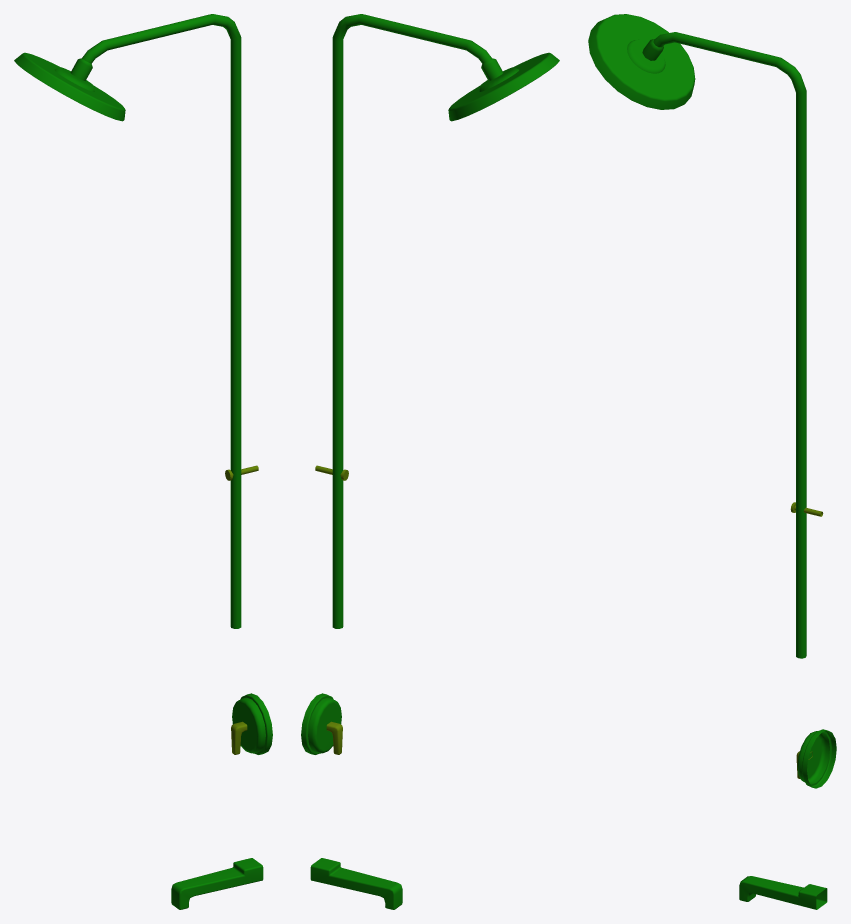
Rendered from SM_Bathtub_Faucet.fbx.
The picture shows the model from 3 angles, left to right: view 1: azimuth 30°, elevation 25°; view 2: azimuth 150°, elevation 25°; view 3: azimuth 330°, elevation 25°; orthographic projection. The views are drawn at different scales.
Visible parts, largest first — view 1: SM_Bathtub_Faucet; view 2: SM_Bathtub_Faucet; view 3: SM_Bathtub_Faucet.
Boxes of the visible parts, x1,y1,x2,y2 form: SM_Bathtub_Faucet: (14,14,272,909); SM_Bathtub_Faucet: (301,14,559,909); SM_Bathtub_Faucet: (588,14,836,909).
Bounding box in the file's own units: 47.85 × 173 × 22.12.
